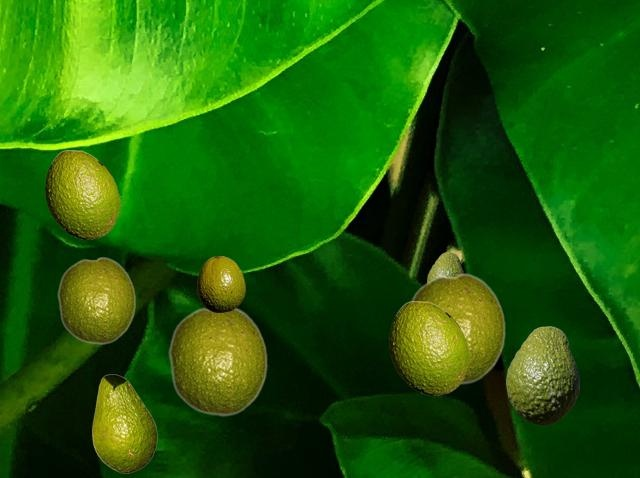avocado: (168, 307, 267, 416), (409, 272, 505, 384), (389, 301, 468, 394), (506, 326, 578, 424), (57, 256, 135, 344), (45, 150, 119, 238), (92, 374, 156, 472), (197, 256, 244, 311), (427, 252, 464, 280)
